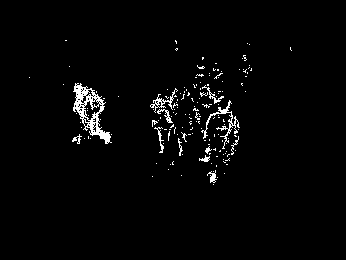person: (204, 95, 240, 185), (70, 82, 111, 145), (170, 84, 197, 157), (150, 94, 171, 154), (195, 85, 220, 131)
